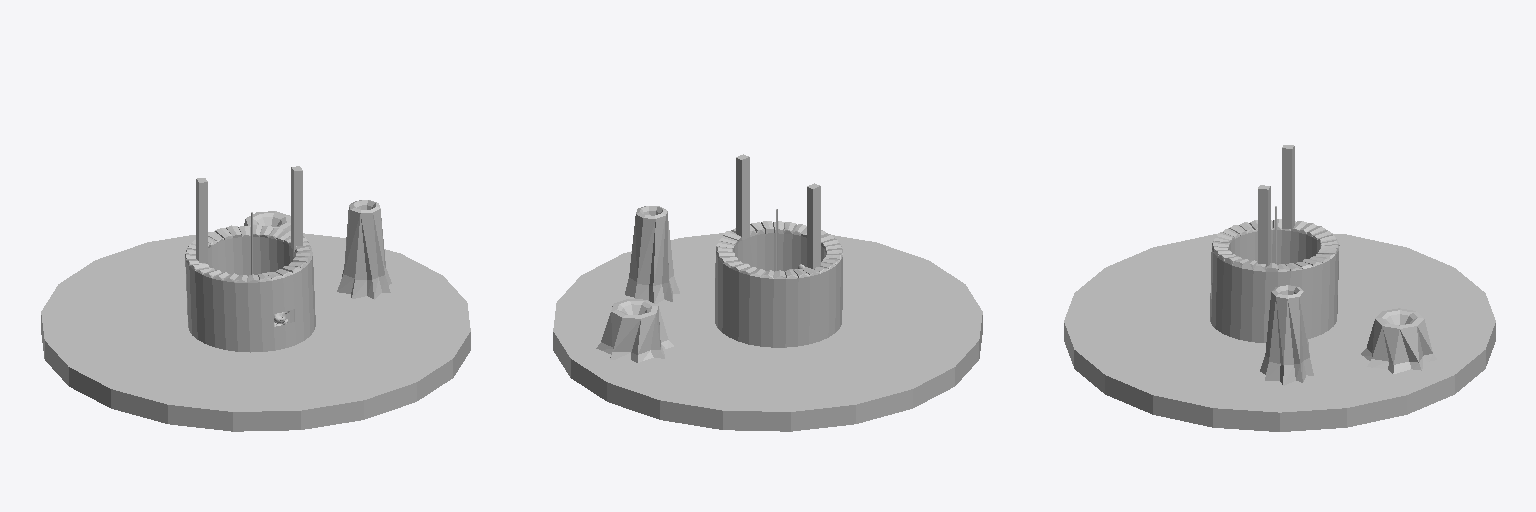
Rendered from 2-2 well.obj.
3 views of the same model, side by side, from view 1: azimuth 30°, elevation 25°; view 2: azimuth 150°, elevation 25°; view 3: azimuth 270°, elevation 25° (orthographic).
Parts seen in each view (by area): view 1: polySurface1; view 2: polySurface1; view 3: polySurface1.
Part boxes in pixels (x1,y1,x2,y2): polySurface1: (41, 166, 470, 431); polySurface1: (553, 154, 982, 431); polySurface1: (1064, 145, 1495, 431).
Size of the model in its own units: 160 by 69.37 by 160.